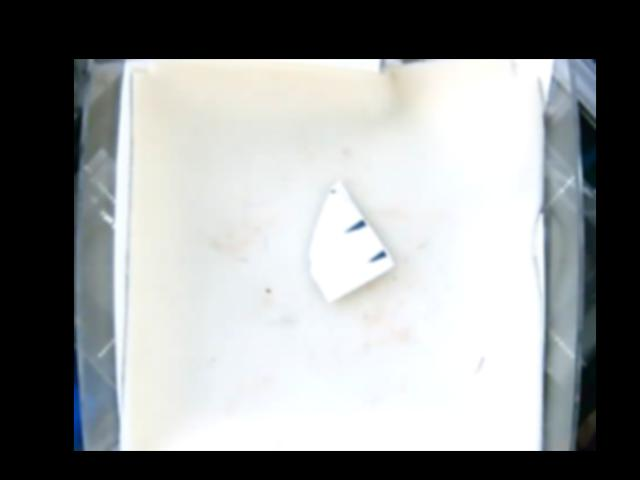China: (308, 180, 394, 305)
